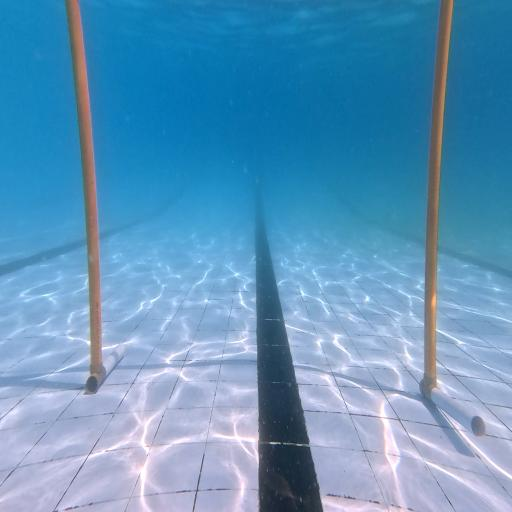gate: (66, 0, 486, 436)
